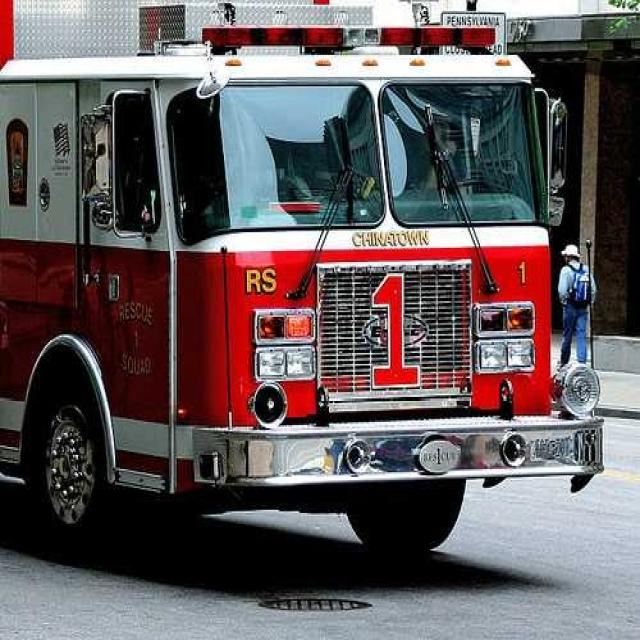ambulance: (11, 23, 622, 491)
